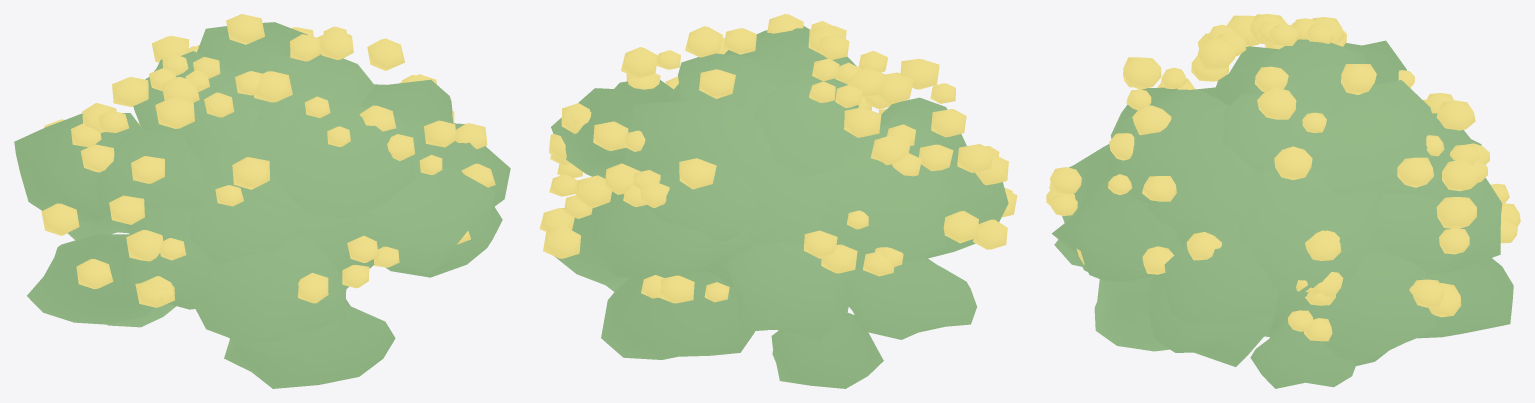
Rendered from Blender_Gorse_1.glb.
3 views of the same model, side by side, from view 1: azimuth 30°, elevation 25°; view 2: azimuth 150°, elevation 25°; view 3: azimuth 270°, elevation 25° (orthographic). The views are drawn at different scales.
Visible parts, largest first — view 1: Blender_Gorse_1; view 2: Blender_Gorse_1; view 3: Blender_Gorse_1.
Boxes of the visible parts, left/top/right/bottom form: Blender_Gorse_1: left=14, top=14, right=510, bottom=388; Blender_Gorse_1: left=539, top=14, right=1017, bottom=388; Blender_Gorse_1: left=1046, top=14, right=1520, bottom=388.
Bounding box in the file's own units: 2.63 × 1.68 × 2.46.
